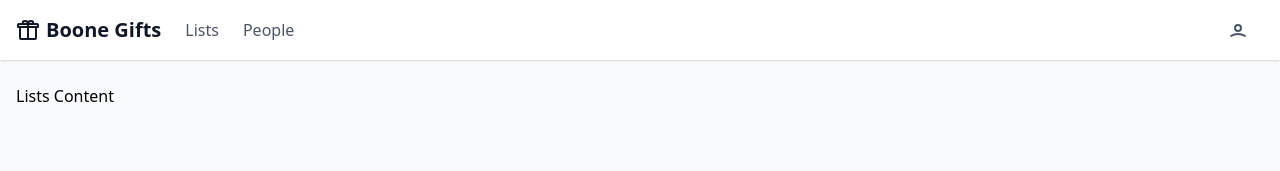
Test: Layout › opens account dropdown when clicked
The width and height of the screenshot is (1280, 171).
What coordinates should you click on to do the following:
click the button named "Account menu"
I would click on:
 (1242, 30)
Its box is [1220,12,1264,48].
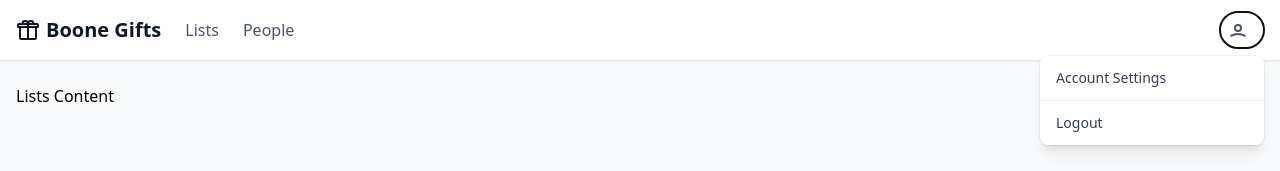
Expected: the link "Account Settings" is shown, [1056,68,1166,87]
Expected: the button "Logout" is shown, [1040,105,1264,141]
